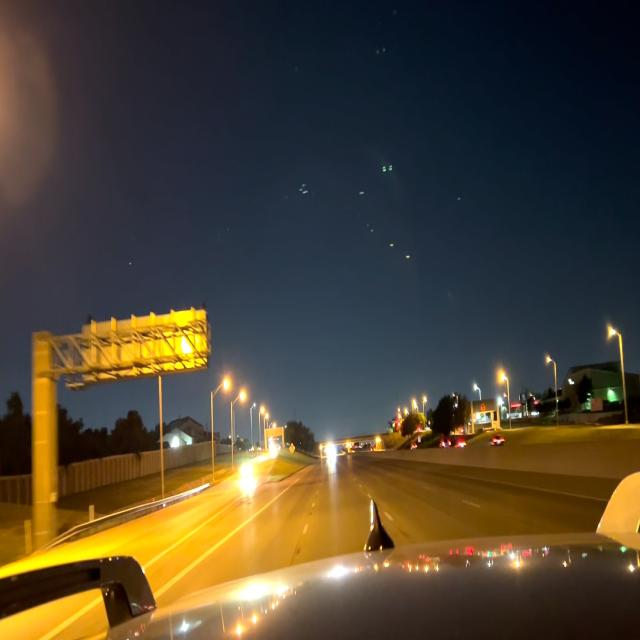back-of-sign: (81, 303, 212, 380)
